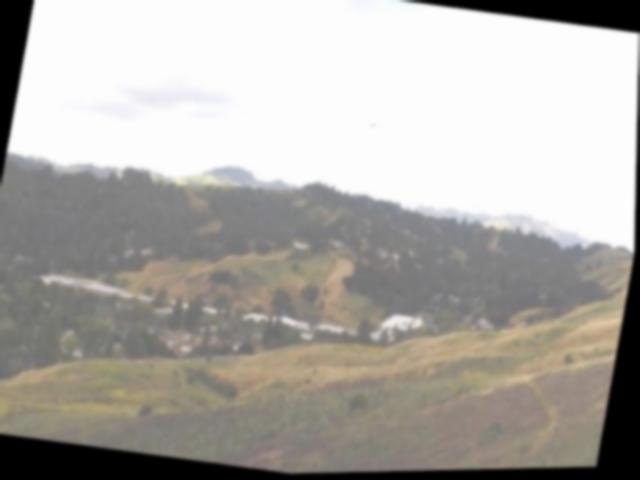iha: (362, 117, 389, 135)
